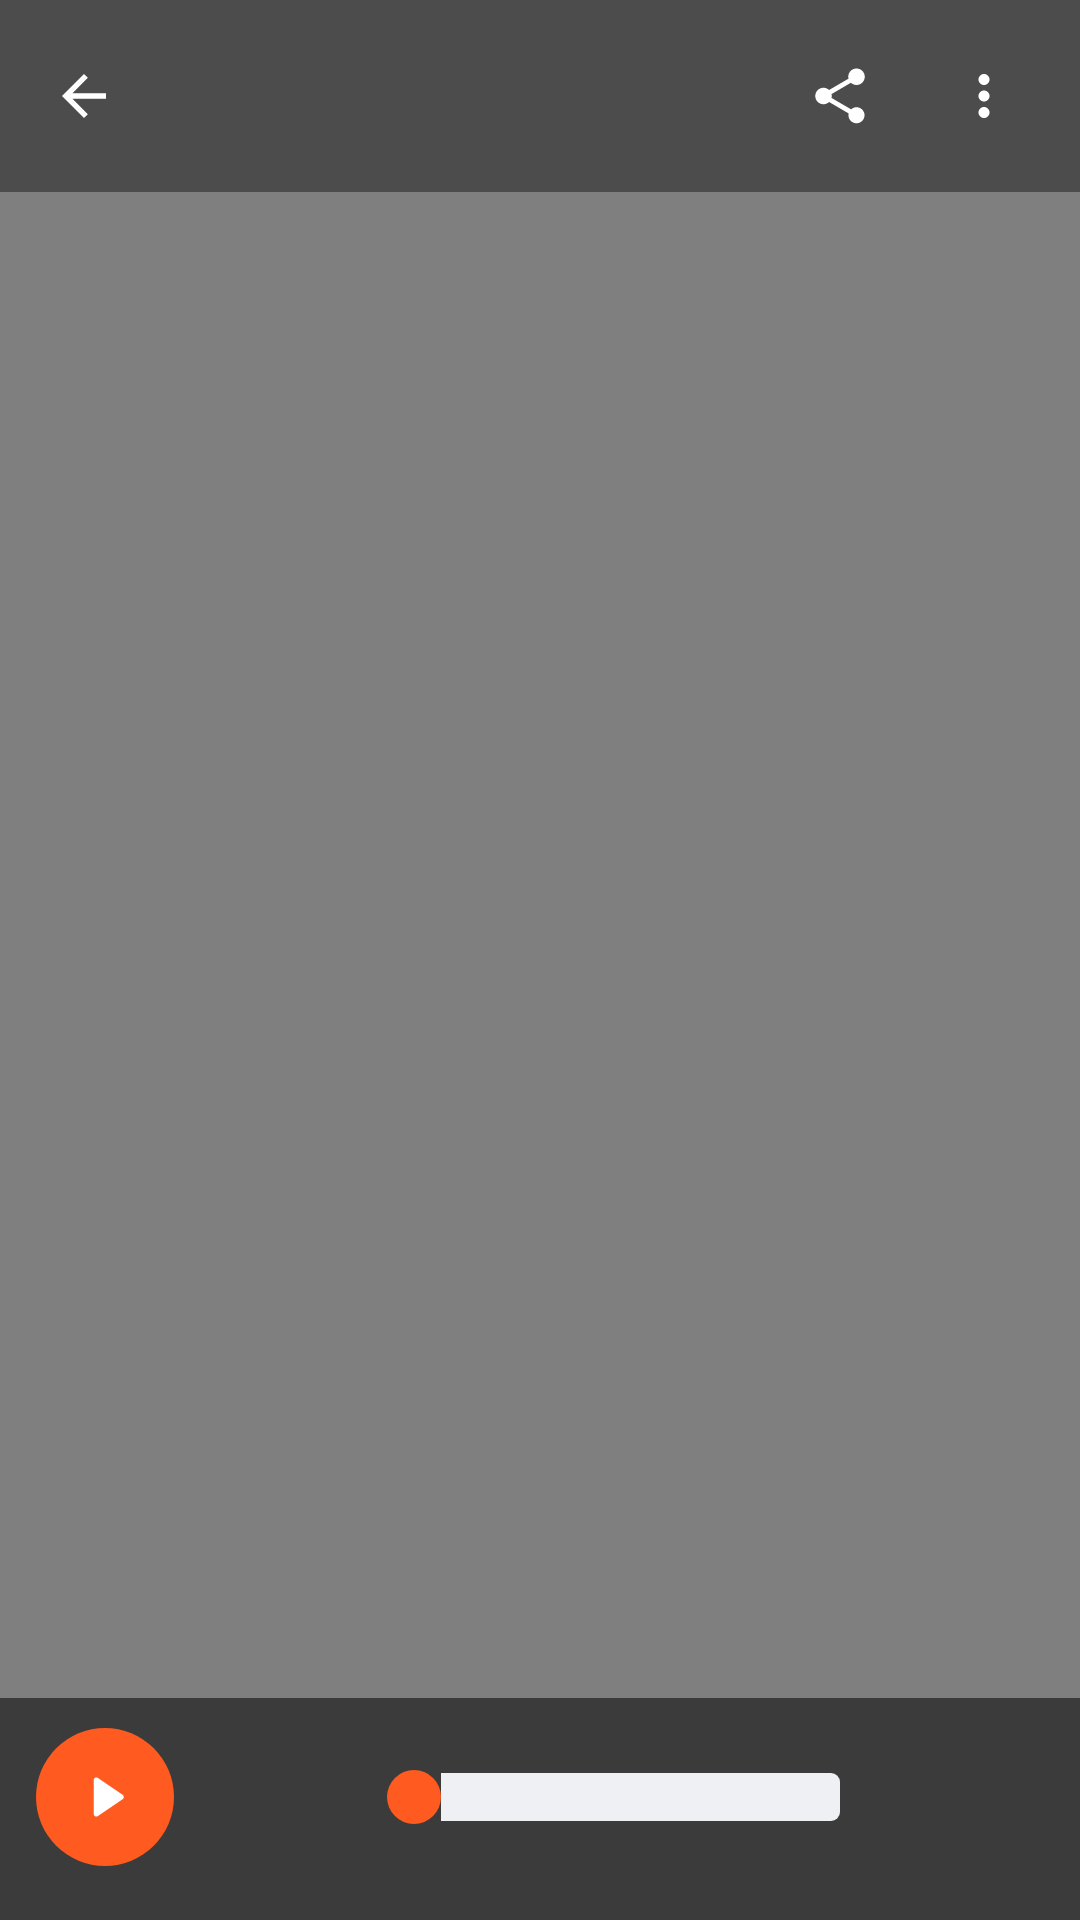

Named icons in this screenshot (1080px×1920px) and their bounding boxes, (x1, y1, x2, y2):
More options: (978, 74, 990, 118)
Play: (36, 1728, 174, 1866)
Share: (815, 68, 865, 124)
